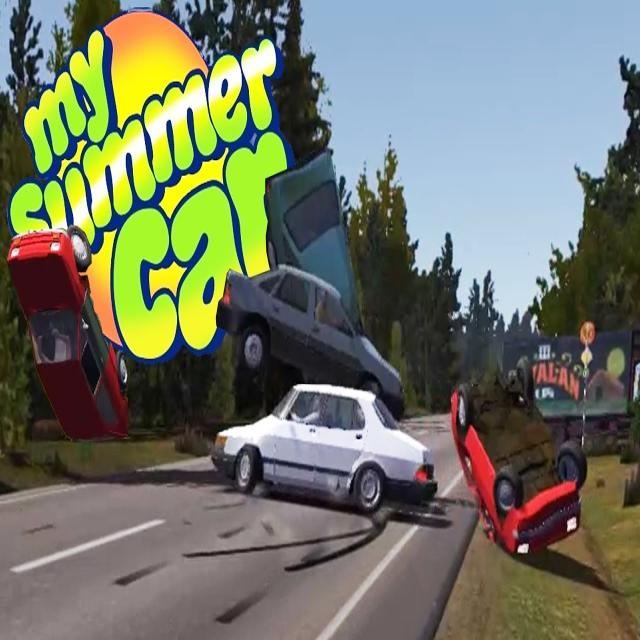Accident: (202, 147, 439, 521), (445, 354, 590, 558), (2, 226, 134, 441)
